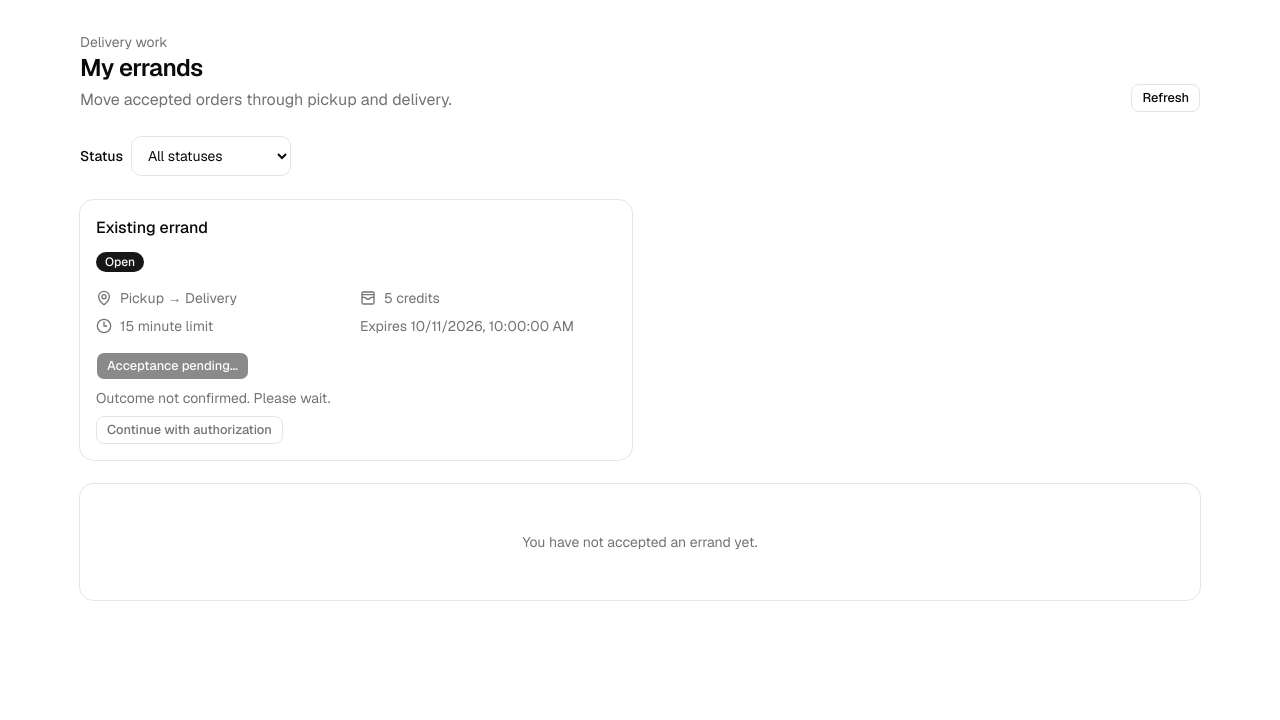
Scenario: keeps a pending acceptance visible on My Errands outside the selected status filter
Expected: the text "Existing errand" is shown, x1=96 y1=216 x2=208 y2=240
Select "Completed" in the dropdown named "Filter errands by status" at coordinates (211, 156), box x1=131 y1=136 x2=291 y2=176
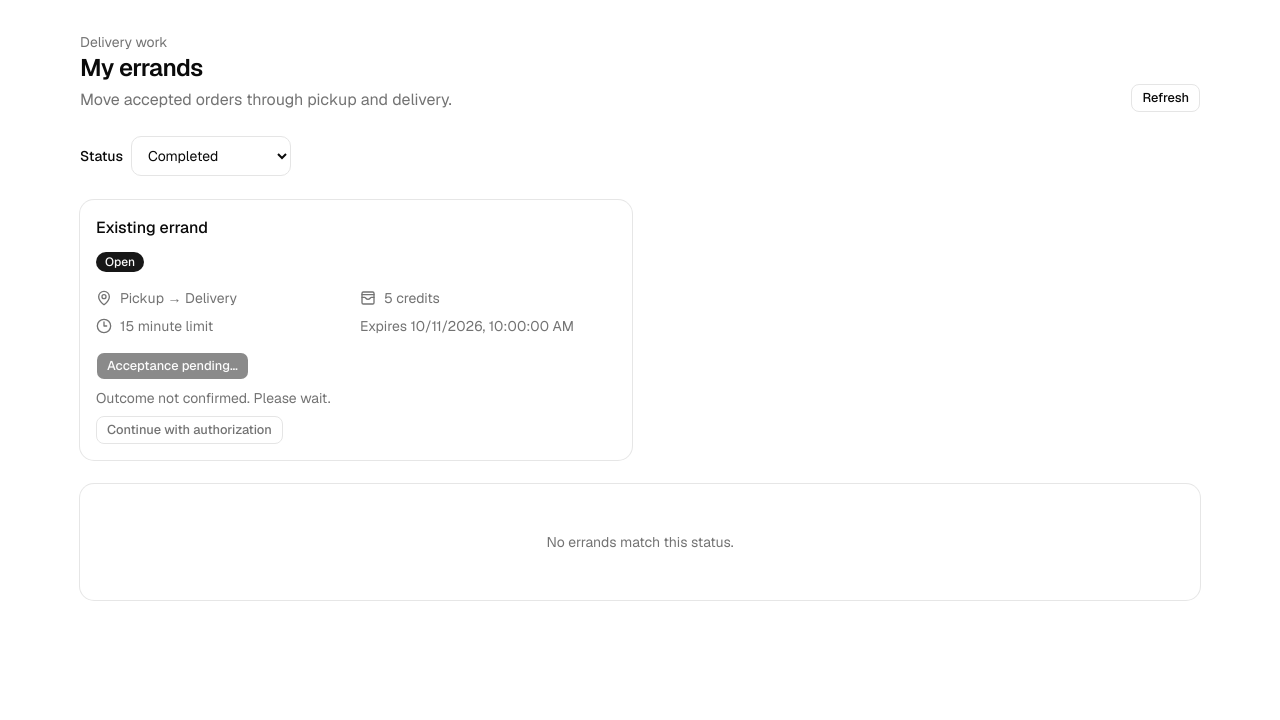
Expected: the text "Existing errand" is shown, x1=96 y1=216 x2=208 y2=240
Expected: the text "No errands match this status." is shown, x1=546 y1=533 x2=734 y2=551
